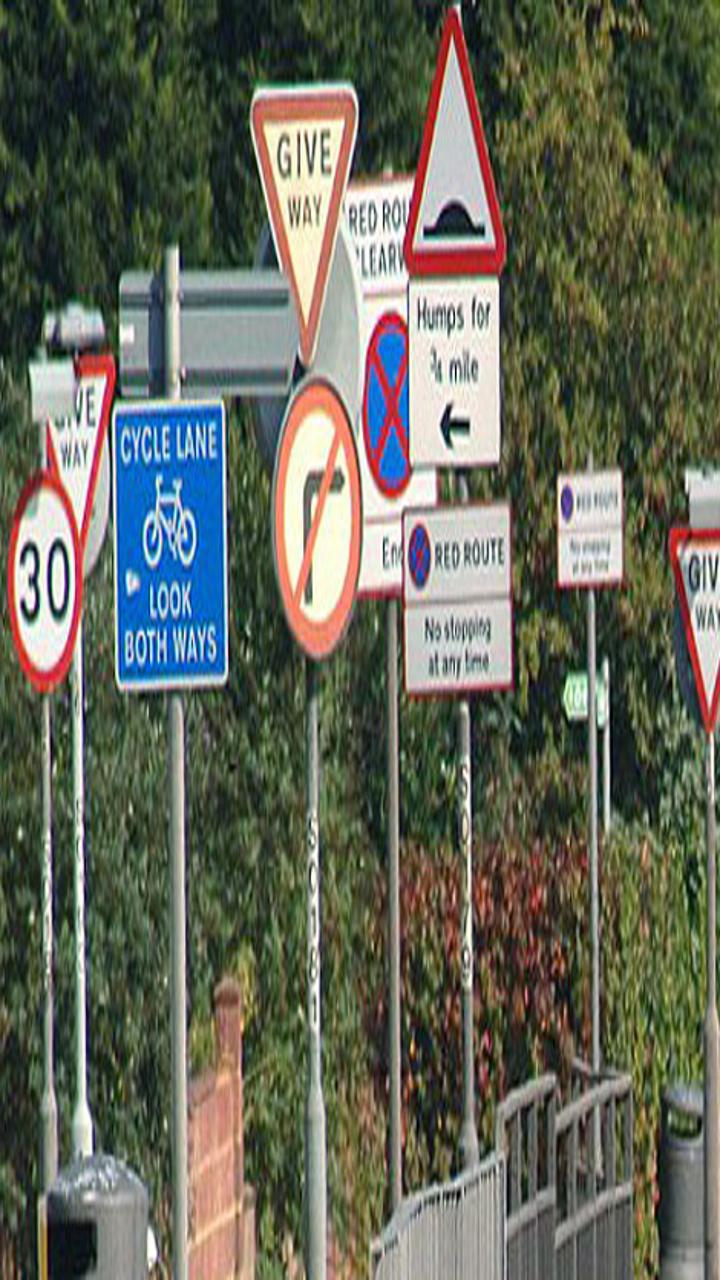Traffic sign: (227, 76, 352, 353), (390, 1, 510, 281), (111, 404, 226, 689), (270, 376, 359, 657), (398, 509, 508, 707), (2, 473, 88, 688), (551, 475, 627, 607)
